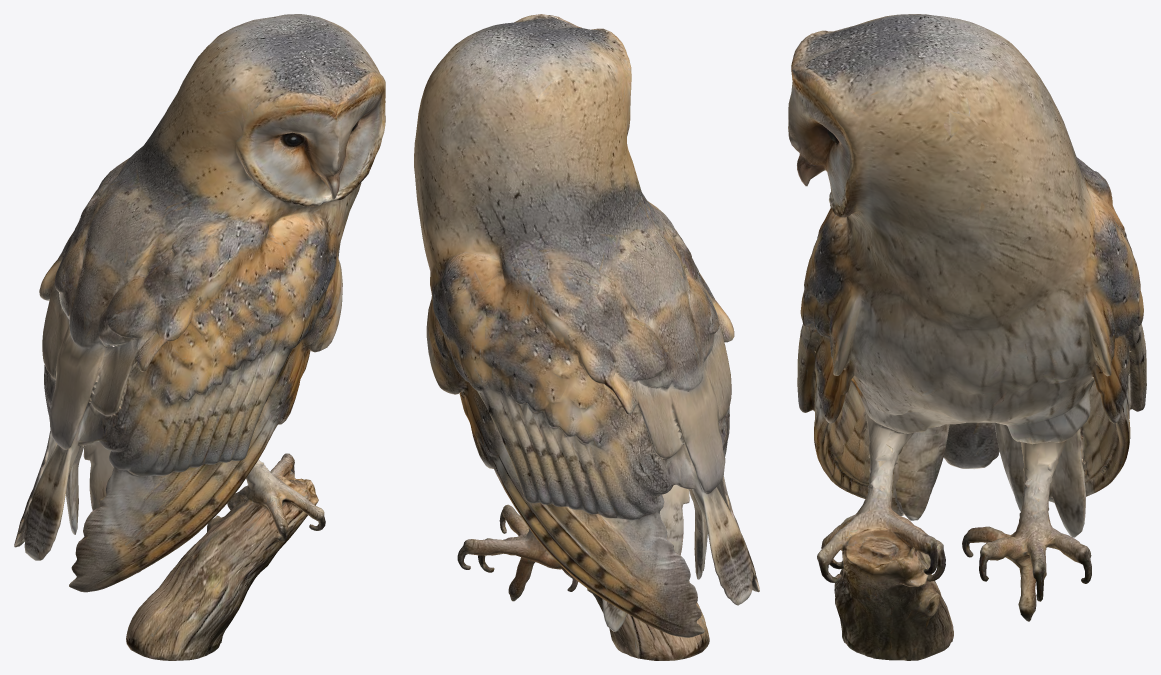
File: owl.glb
The picture shows the model from 3 angles, left to right: view 1: azimuth 30°, elevation 25°; view 2: azimuth 150°, elevation 25°; view 3: azimuth 270°, elevation 25°; orthographic projection. The views are drawn at different scales.
Visible parts, largest first — view 1: Mesh_0; view 2: Mesh_0; view 3: Mesh_0.
Part boxes in pixels (<box>): Mesh_0: <box>14,14,385,660</box>; Mesh_0: <box>414,14,759,660</box>; Mesh_0: <box>788,14,1146,660</box>.
Bounding box in the file's own units: 1.12 × 1.91 × 0.9171.
1 material, 1 textured.
